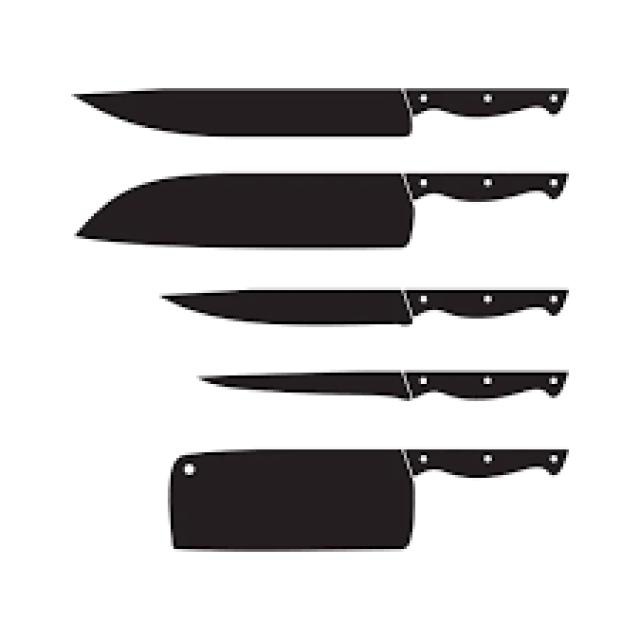Knife: (168, 447, 569, 549), (74, 170, 566, 248), (71, 86, 569, 136), (159, 288, 569, 324), (196, 370, 566, 398)
